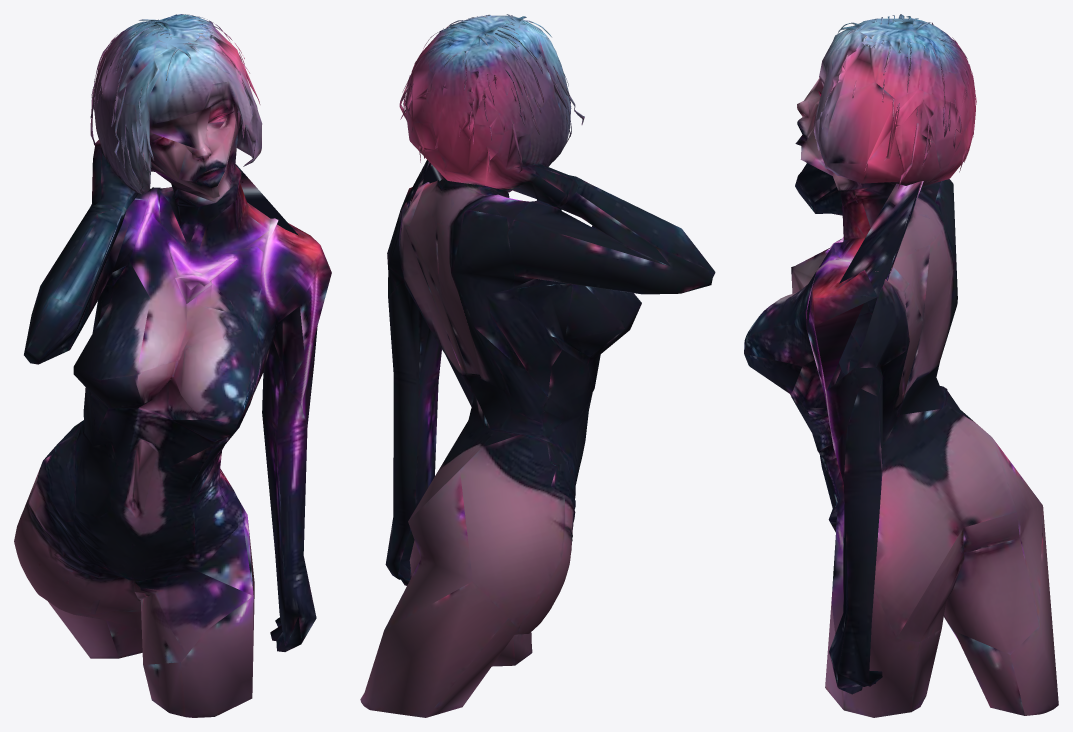
Rendered from girl-34.glb.
3 views of the same model, side by side, from view 1: azimuth 30°, elevation 25°; view 2: azimuth 150°, elevation 25°; view 3: azimuth 270°, elevation 25° (orthographic). The views are drawn at different scales.
Parts seen in each view (by area): view 1: node_0; view 2: node_0; view 3: node_0.
Boxes of the visible parts, x1,y1,x2,y2 form: node_0: [14, 14, 331, 717]; node_0: [360, 14, 715, 717]; node_0: [744, 14, 1058, 717].
Size of the model in its own units: 0.5387 by 1.08 by 0.4661.
Materials: 1 (1 with a texture image).
